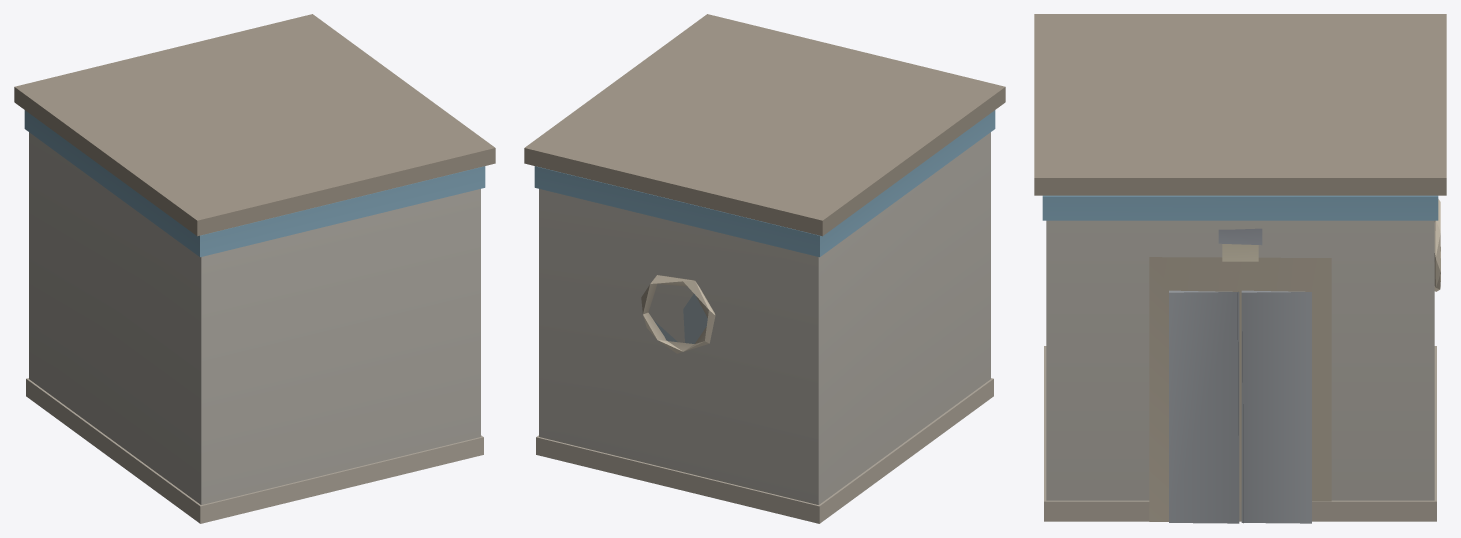
Rendered from roof_lift_house_low.glb.
3 renders of one model, left to right at view 1: azimuth 30°, elevation 25°; view 2: azimuth 150°, elevation 25°; view 3: azimuth 270°, elevation 25°, orthographic. The views are drawn at different scales.
Visible parts, largest first — view 1: roof.lift_house; view 2: roof.lift_house; view 3: roof.lift_house, door_l, door_r.
Boxes of the visible parts, left/top/right/bottom form: roof.lift_house: left=14, top=14, right=495, bottom=523; roof.lift_house: left=524, top=14, right=1005, bottom=523; roof.lift_house: left=1034, top=14, right=1446, bottom=521; door_l: left=1241, top=290, right=1311, bottom=523; door_r: left=1169, top=290, right=1239, bottom=523.
Bounding box in the file's own units: 3.4 × 3.16 × 3.4.
